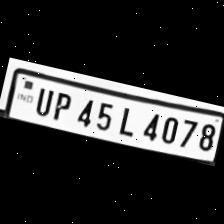0: (156, 111, 182, 145)
4: (70, 92, 98, 128), (136, 107, 164, 143)
5: (90, 97, 119, 134)
7: (173, 114, 198, 150)
8: (193, 118, 219, 154)
L: (112, 102, 141, 140)
P: (48, 88, 74, 123)
U: (30, 82, 56, 118)
